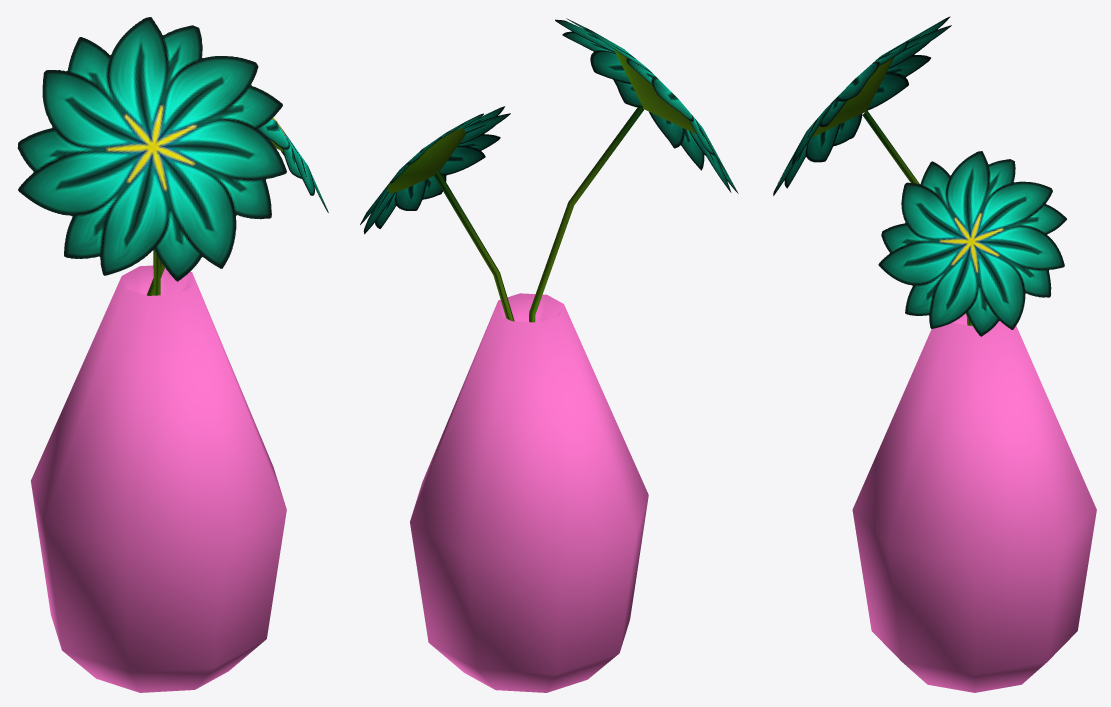
File: Flowers_D_3.FBX
The picture shows the model from 3 angles, left to right: view 1: azimuth 30°, elevation 25°; view 2: azimuth 150°, elevation 25°; view 3: azimuth 270°, elevation 25°; orthographic projection. The views are drawn at different scales.
Visible parts, largest first — view 1: Vase_And_Flowers; view 2: Vase_And_Flowers; view 3: Vase_And_Flowers.
Part boxes in pixels (x1,y1,x2,y2): Vase_And_Flowers: [17, 17, 328, 692]; Vase_And_Flowers: [360, 18, 738, 692]; Vase_And_Flowers: [773, 16, 1096, 692].
Bounding box in the file's own units: 80.48 × 155 × 73.7.
